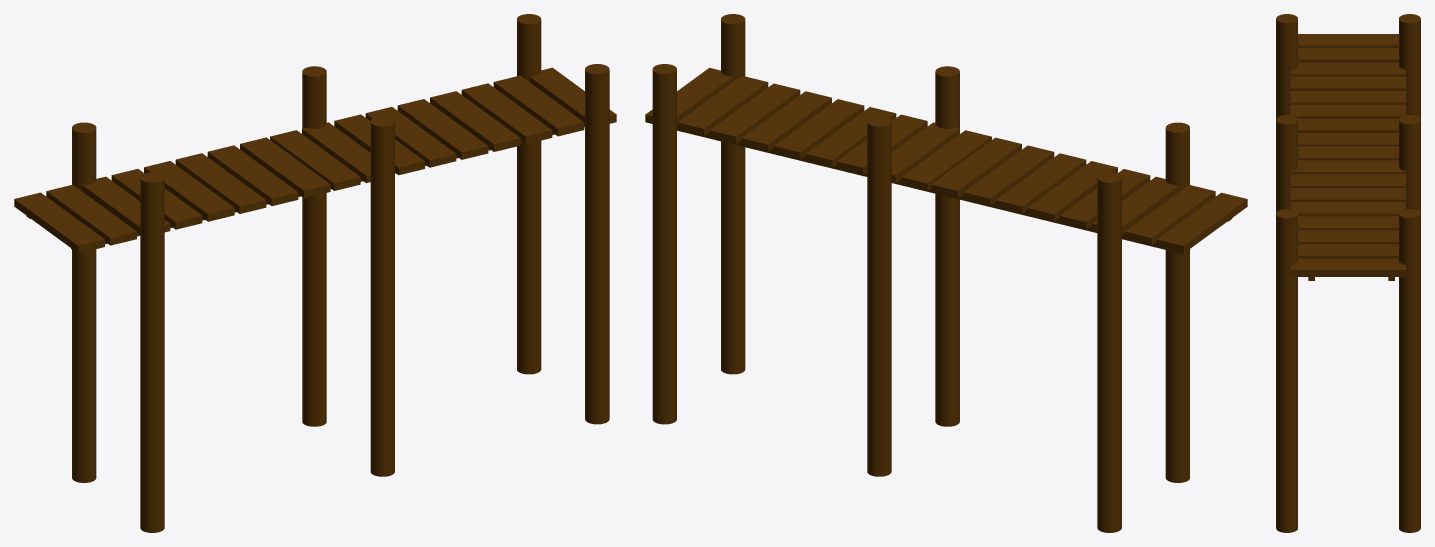
File: dock.fbx
3 renders of one model, left to right at view 1: azimuth 30°, elevation 25°; view 2: azimuth 150°, elevation 25°; view 3: azimuth 270°, elevation 25°, orthographic. The views are drawn at different scales.
Parts seen in each view (by area): view 1: Cylinder.001, Cylinder.005, Cylinder.003, Cylinder, Cylinder.004, Cylinder.002, Cube.018, Cube, Cube.008, Cube.012, Cube.009, Cube.003 (+11 smaller); view 2: Cylinder.002, Cylinder.004, Cylinder, Cylinder.001, Cylinder.005, Cylinder.003, Cube.018, Cube, Cube.008, Cube.003, Cube.009, Cube.012 (+12 smaller); view 3: Cylinder.004, Cylinder.005, Cube.011, Cylinder, Cylinder.001, Cylinder.002, Cylinder.003, Cube.015, Cube.004, Cube.009, Cube.016, Cube.005 (+11 smaller).
Part boxes in pixels (x1,y1,x2,y2): Cylinder.001: (140,172,164,532); Cylinder.005: (585,64,609,424); Cylinder.003: (370,116,394,476); Cylinder: (72,122,96,482); Cylinder.004: (517,14,541,374); Cylinder.002: (302,66,326,426); Cube.018: (14,192,104,253); Cube: (240,137,330,198); Cube.008: (430,91,520,151); Cube.012: (493,75,584,136); Cube.009: (397,99,488,159); Cube.003: (207,145,298,205); Cylinder.002: (867,116,891,476); Cylinder.004: (652,64,676,424); Cylinder: (1097,172,1121,532); Cylinder.001: (1165,122,1189,482); Cylinder.005: (721,14,745,374); Cylinder.003: (935,66,959,426); Cube.018: (1157,192,1247,253); Cube: (931,137,1021,198); Cube.008: (741,91,831,151); Cube.003: (963,145,1054,206); Cube.009: (773,99,864,159); Cube.012: (677,75,768,136); Cylinder.004: (1399,209,1420,532); Cylinder.005: (1276,209,1297,532); Cube.011: (1291,258,1406,276); Cylinder: (1399,14,1420,119); Cylinder.001: (1276,14,1297,119); Cylinder.002: (1399,115,1420,213); Cylinder.003: (1276,115,1297,213); Cube.015: (1291,76,1406,90); Cube.004: (1291,104,1406,118); Cube.009: (1291,202,1406,216); Cube.016: (1291,62,1406,76); Cube.005: (1291,174,1406,187).
Size of the model in its own units: 969 by 602 by 251.
